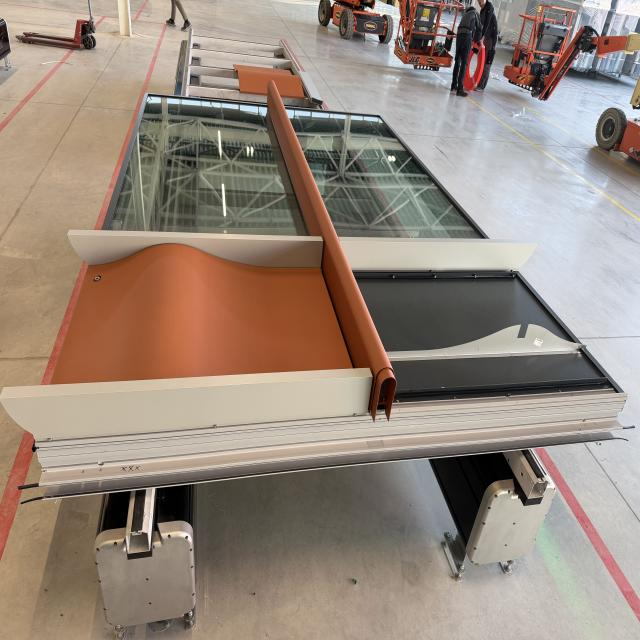lim_nedostaje: (389, 319, 592, 358)
